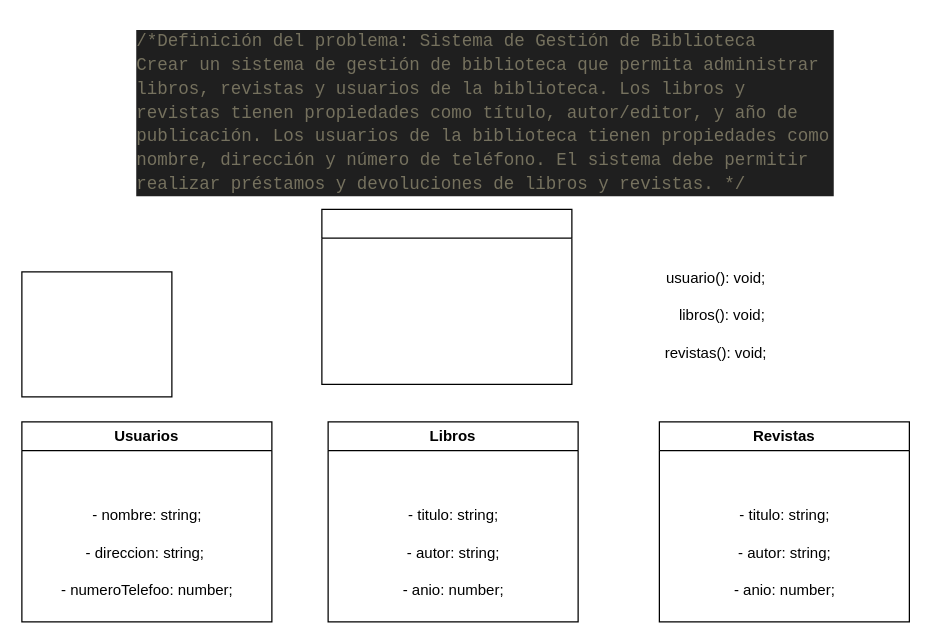
The diagram is 931 pixels wide and 644 high, and some of its shapes have lost their labels. Each missing label, with the centre of its shape:
"Biblioteca" goes at point (446, 296).
"biblioteca usuarios libros revistas" goes at point (96, 334).
